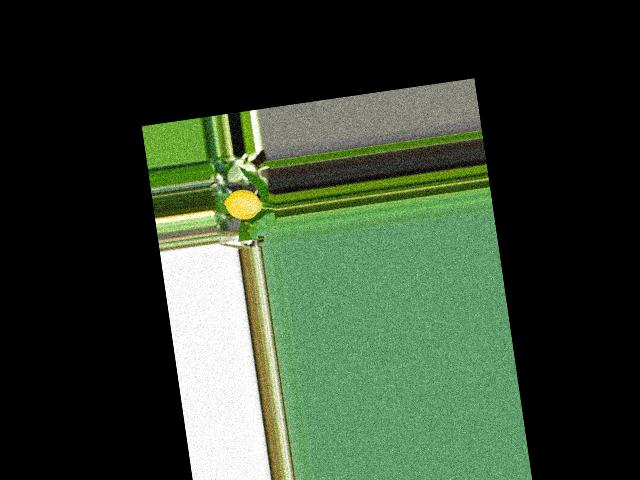lemon: (217, 183, 265, 223)
